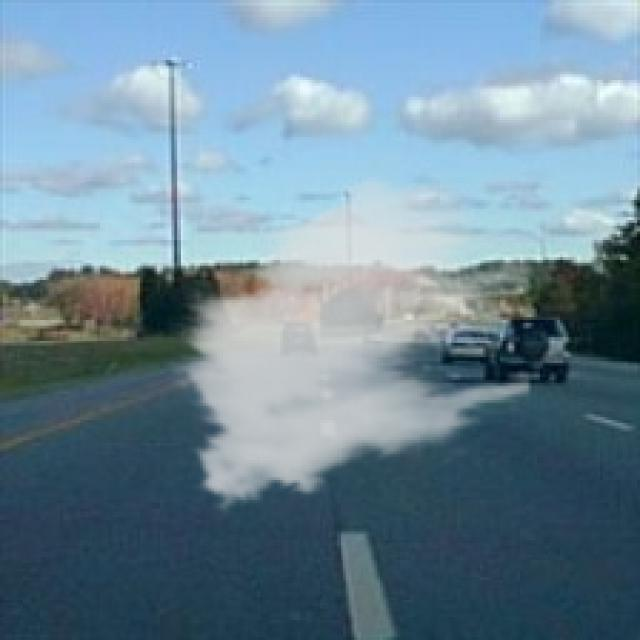Smoke: (168, 165, 532, 520)
